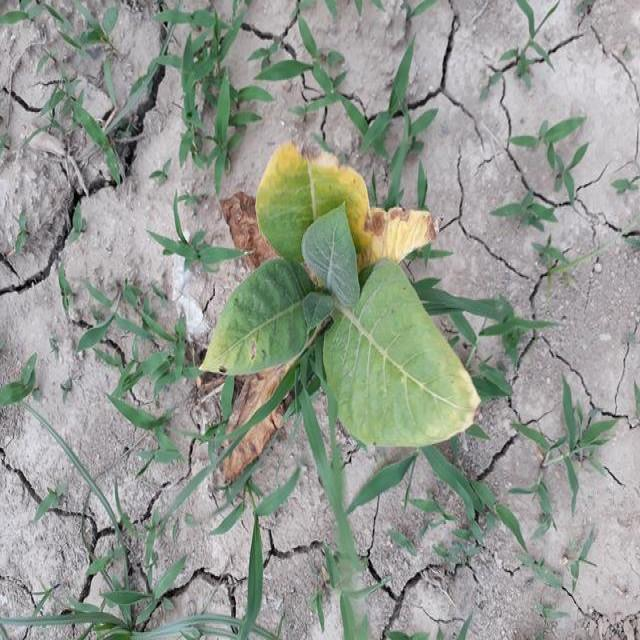crop: (210, 127, 470, 476)
